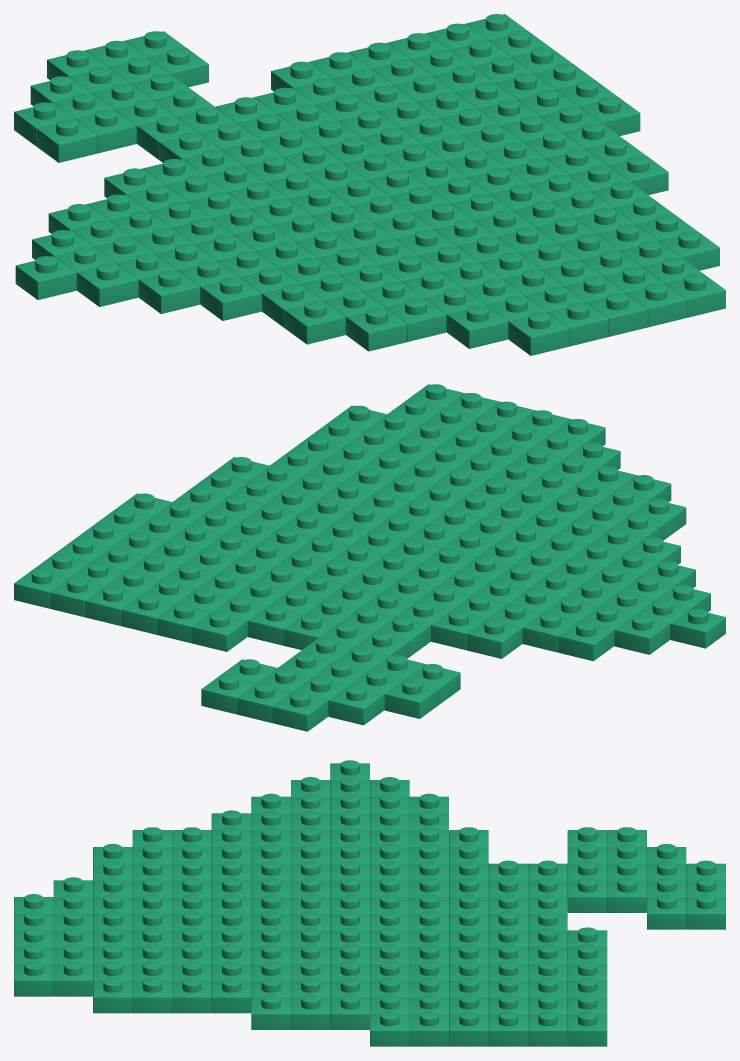
Rendered from Quebec.fbx.
3 views of the same model, one above another, from view 1: azimuth 30°, elevation 25°; view 2: azimuth 150°, elevation 25°; view 3: azimuth 270°, elevation 25° (orthographic). The views are drawn at different scales.
Visible parts, largest first — view 1: Cylinder_57; view 2: Cylinder_57; view 3: Cylinder_57.
Boxes of the visible parts, x1,y1,x2,y2 form: Cylinder_57: (14,14,725,355); Cylinder_57: (14,384,725,731); Cylinder_57: (14,760,725,1046).
Bounding box in the file's own units: 1600 × 65.03 × 1800.
